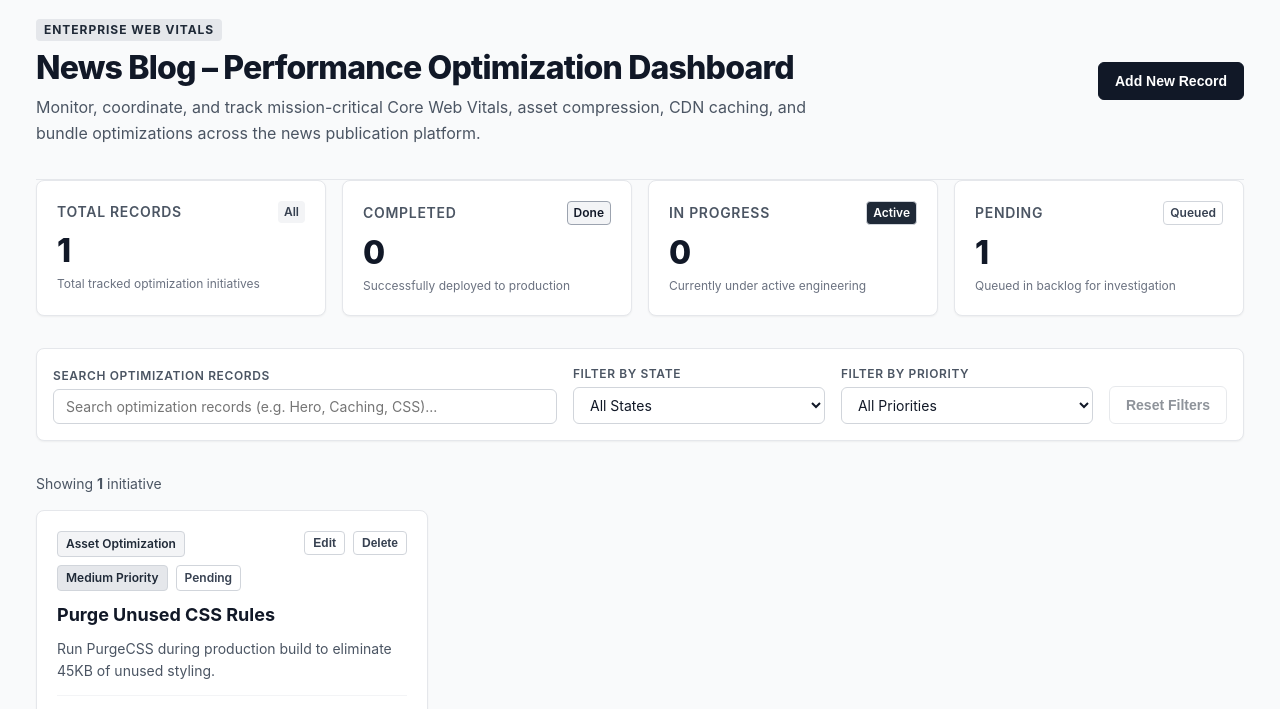
B. Record Management Requirements › edits an existing optimization record
// Find and click the edit button for initialRecord
Click the button "Edit".
click(325, 543)  # box [304,531,345,555]
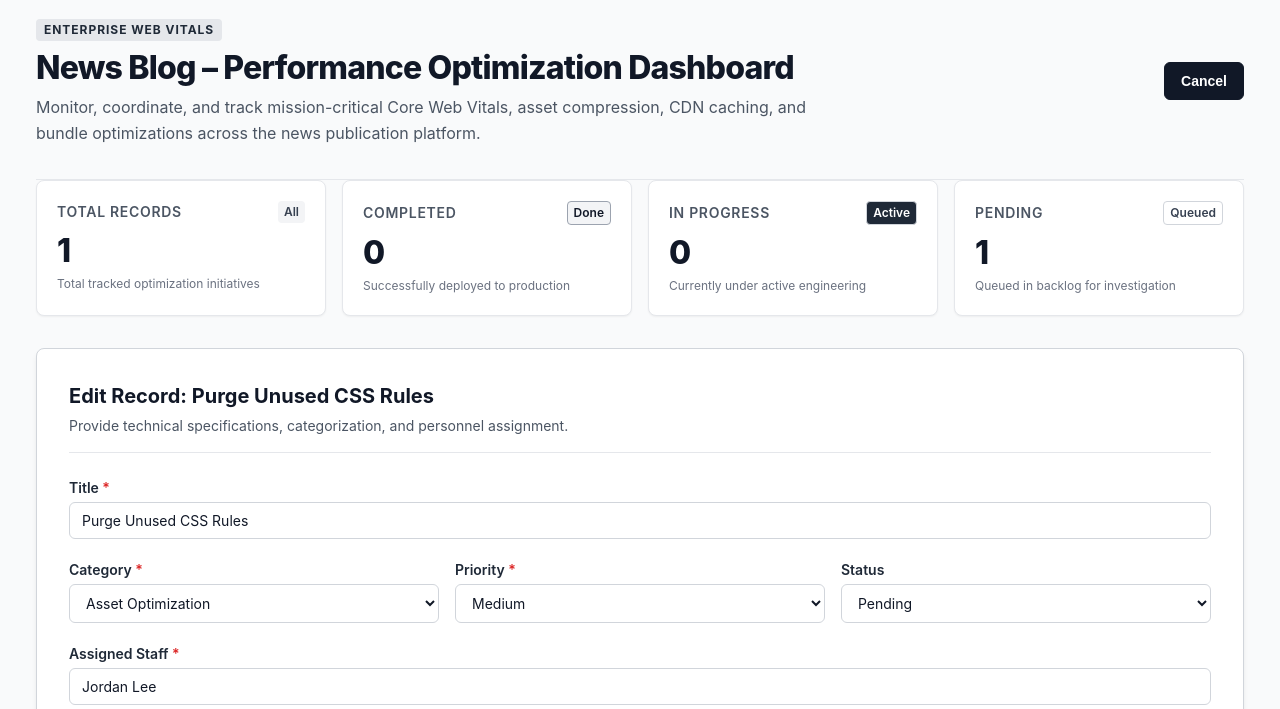
Expected: the field labelled "Title *" holds "Purge Unused CSS Rules"
// Update title, status to 'Completed', and priority to 'High'
Replace the text in the field labelled "Title *" with "Purge Unused CSS Rules via PostCSS" at (640, 520), box [69,502,1211,539]
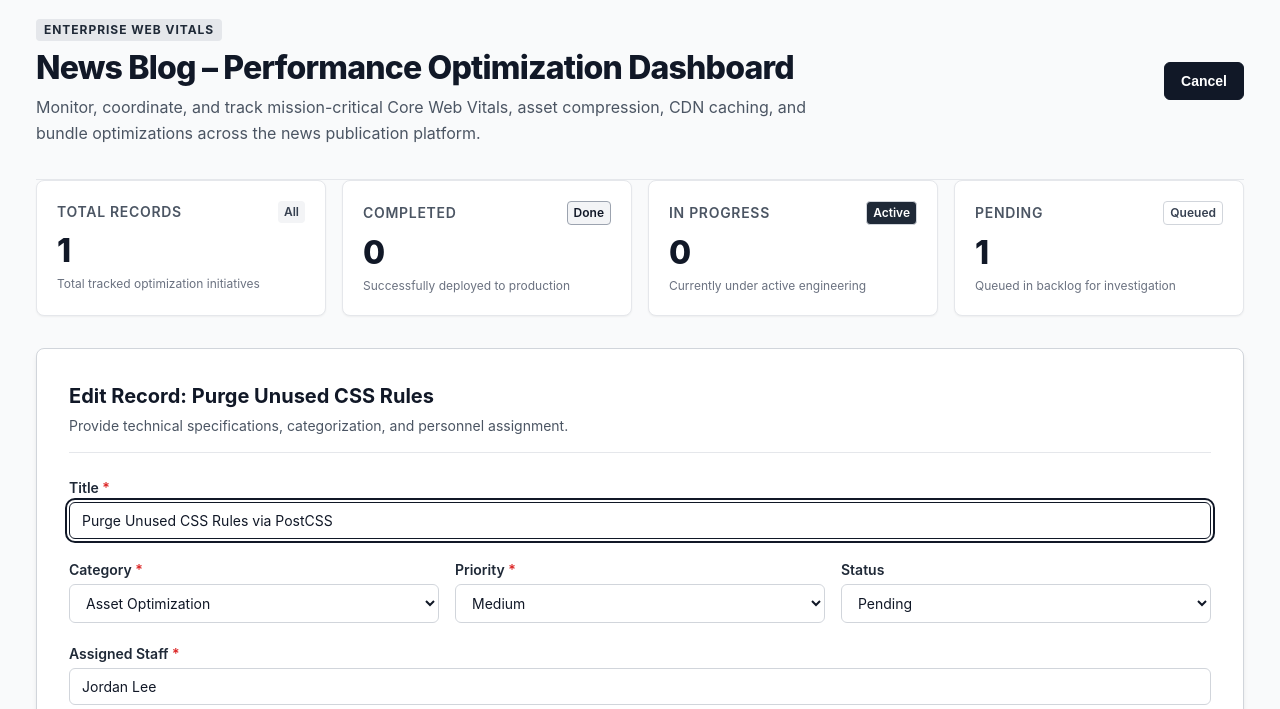
Select "Completed" in the dropdown labelled "Status" at (1026, 603), box [841,584,1211,623]
(page scrolled)
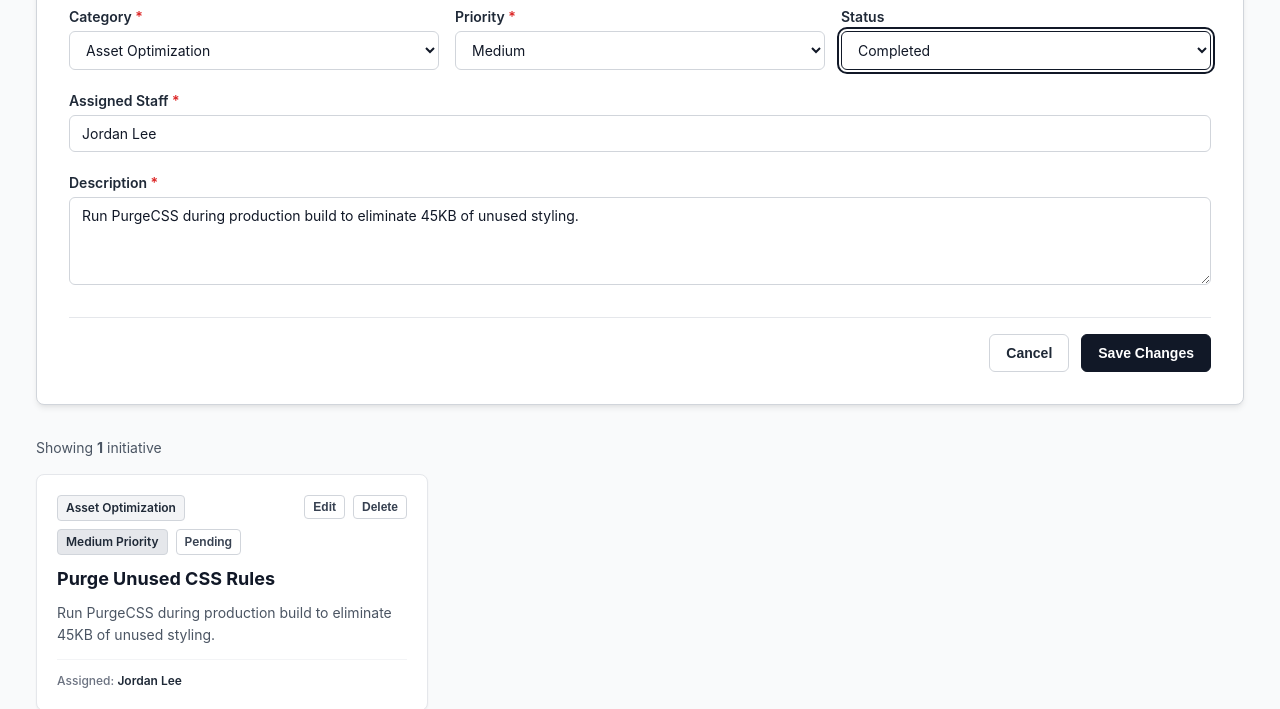
Click the button "Save Changes".
click(1146, 353)  # box [1081,334,1211,372]
(page scrolled)
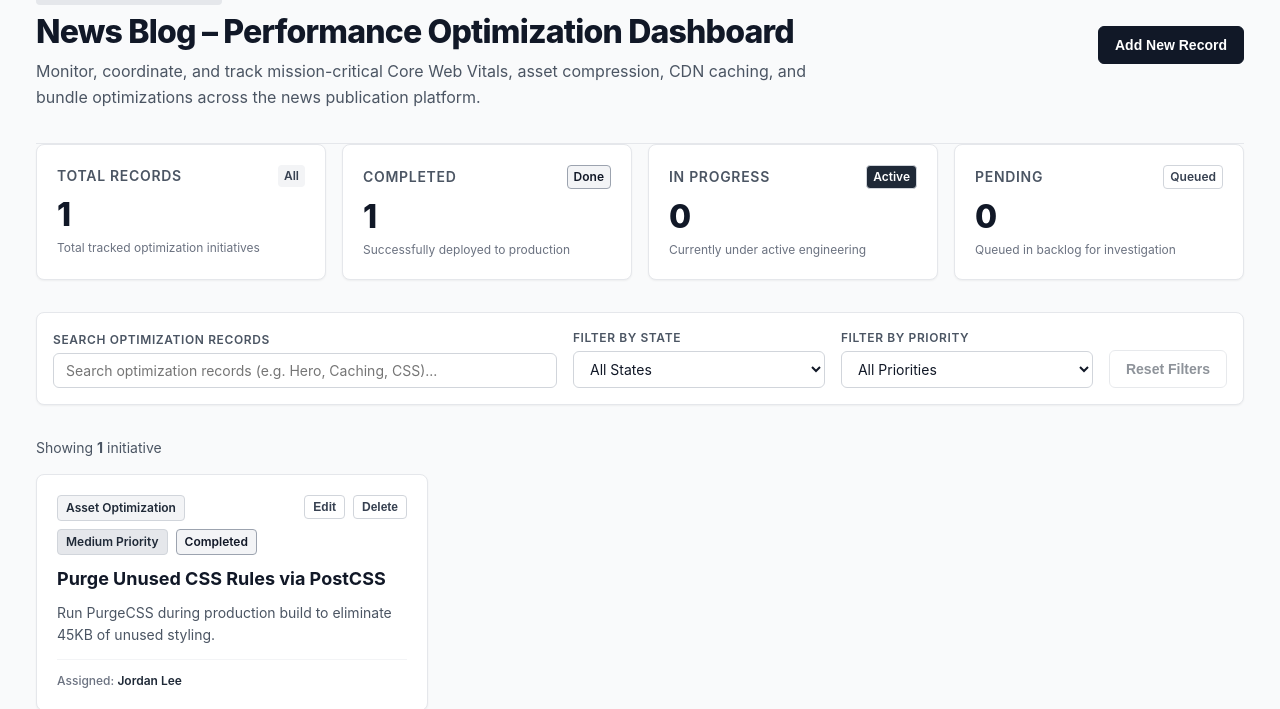
Expected: the heading "Purge Unused CSS Rules via PostCSS" is shown, [57,567,407,590]
Expected: the text "1" below "Done" is shown, [363,197,377,236]
